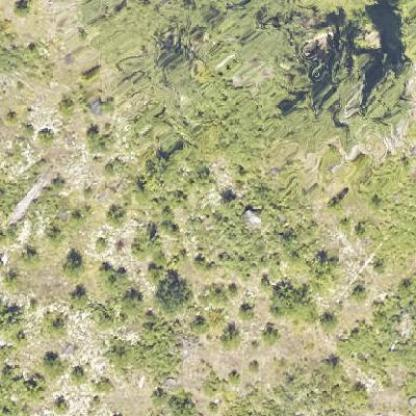tree-top: (268, 276, 322, 326), (147, 273, 196, 314), (60, 250, 84, 276)
